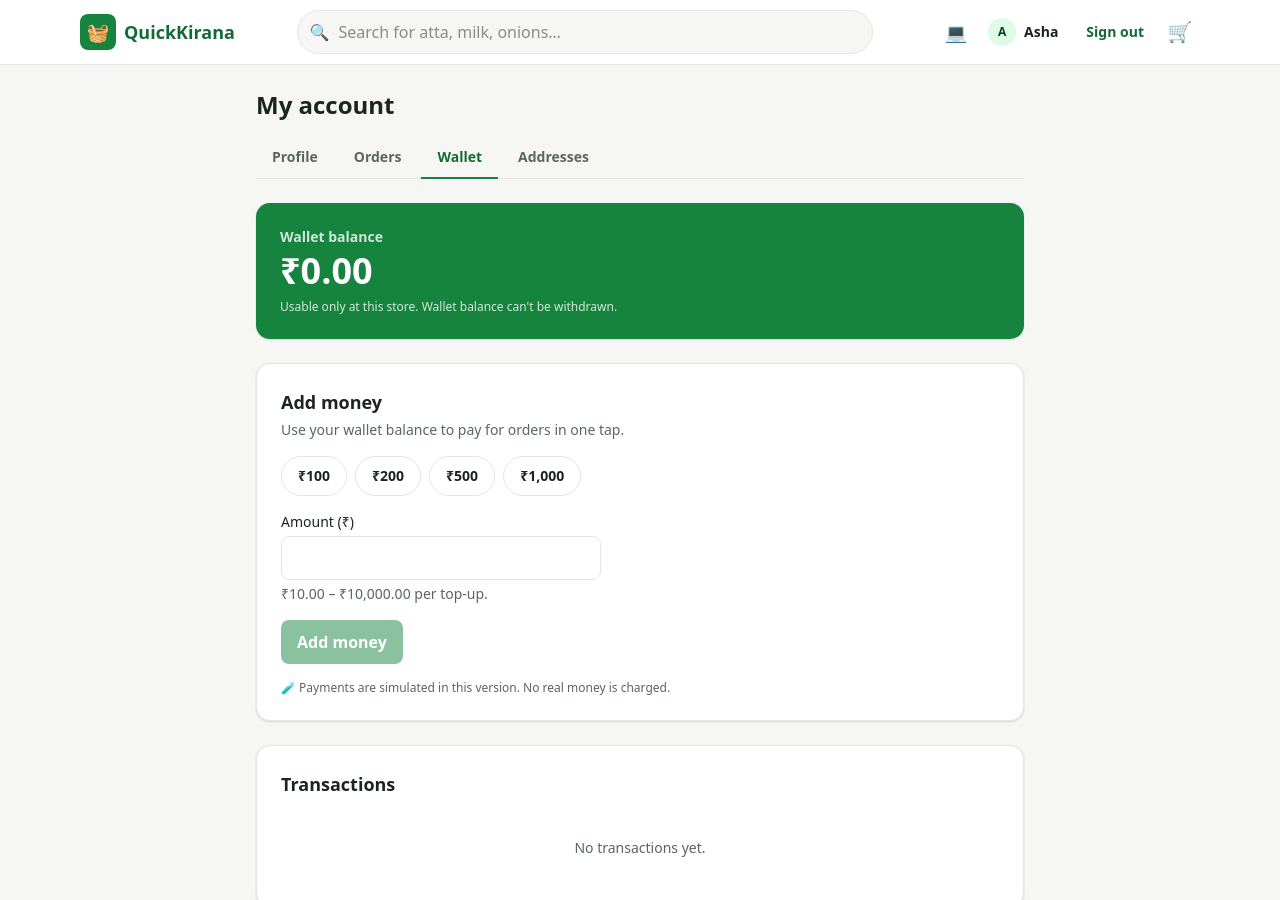
Scenario: customer wallet › tops up with a quick amount and sends an idempotency key
Click the button "₹500" at (462, 476), box x1=429 y1=456 x2=495 y2=496
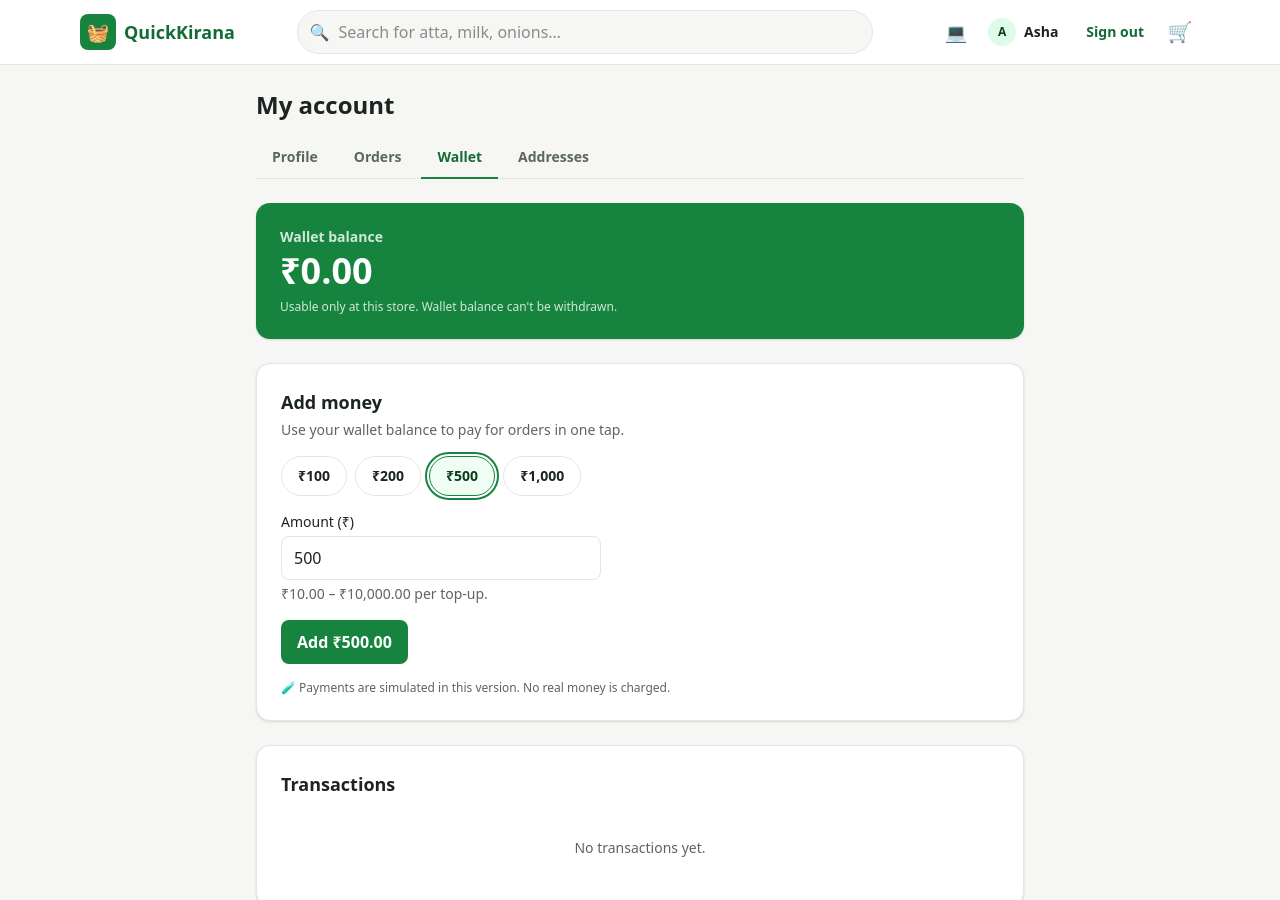
Click the button "Add ₹500.00" at (344, 642), box x1=281 y1=620 x2=408 y2=664
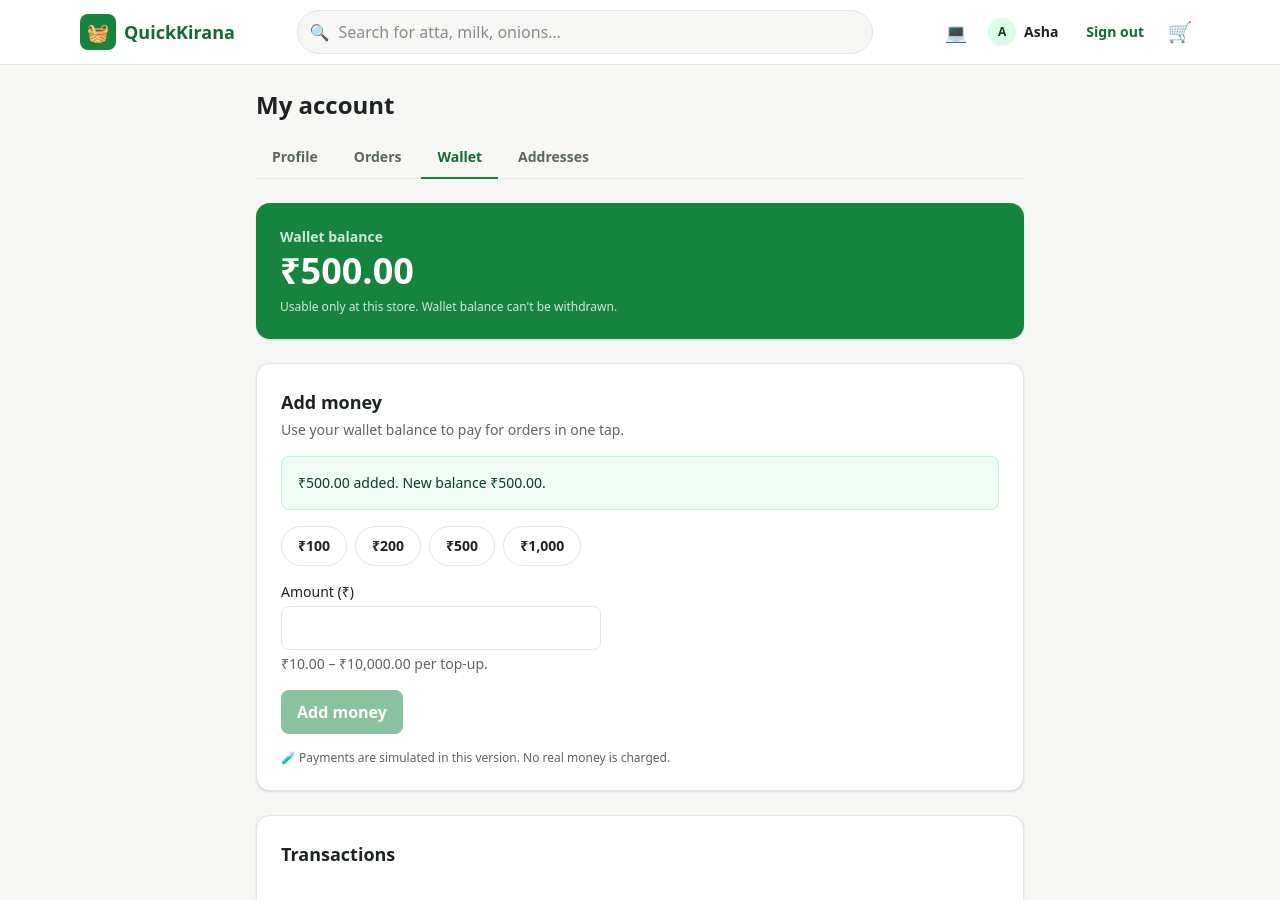
expect the text "₹500.00 added. New balance ₹500.00." is shown: met, box x1=298 y1=473 x2=546 y2=492
